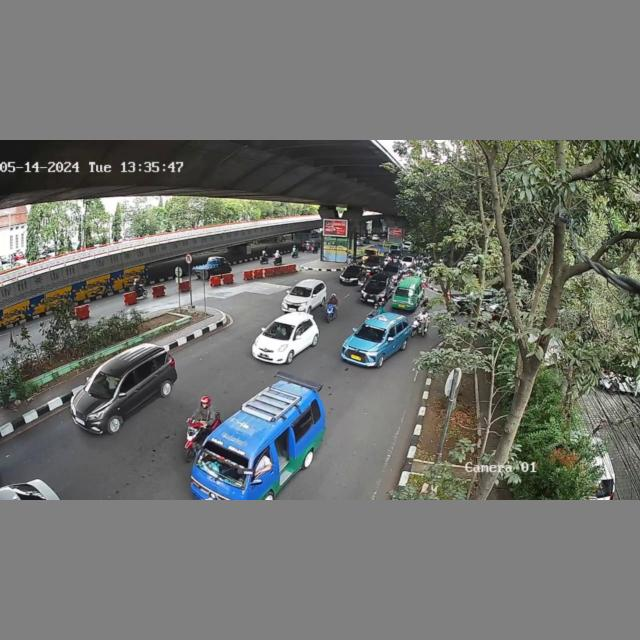windshield: (193, 443, 250, 483), (87, 369, 121, 399), (354, 323, 386, 343), (262, 322, 294, 341), (288, 284, 312, 298)
